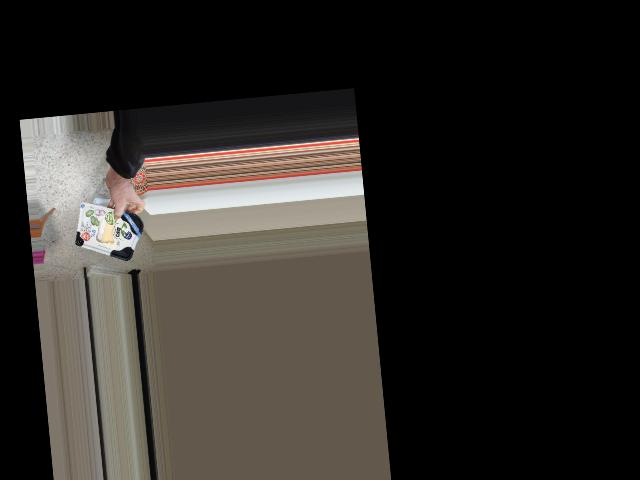cheese: (72, 207, 148, 260)
